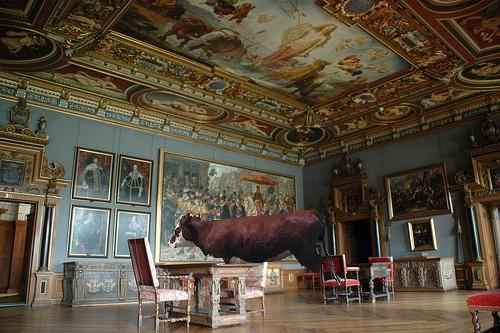tampered: (168, 210, 341, 286)
